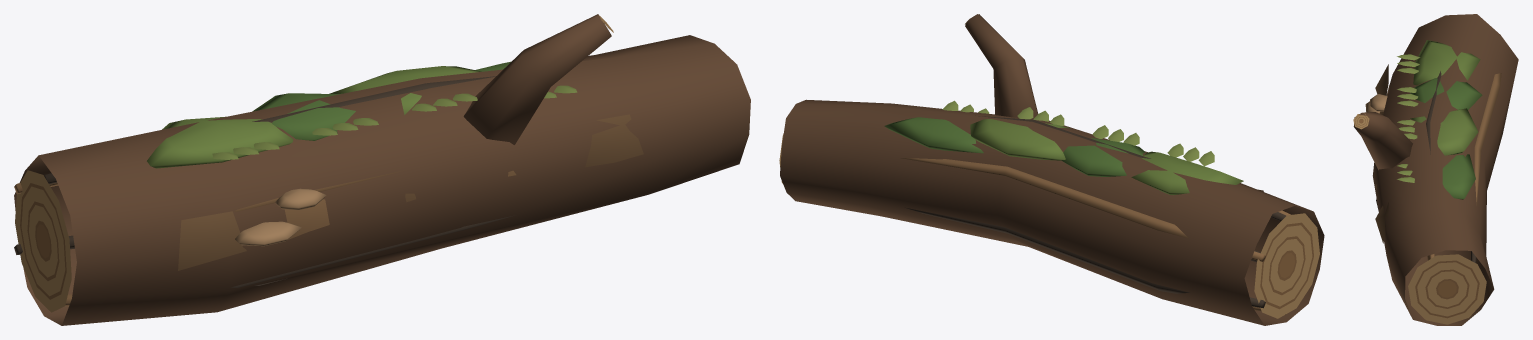
File: woodland_fallen_log.glb
3 views of the same model, side by side, from view 1: azimuth 30°, elevation 25°; view 2: azimuth 150°, elevation 25°; view 3: azimuth 270°, elevation 25° (orthographic). The views are drawn at different scales.
Visible parts, largest first — view 1: body; view 2: body; view 3: body.
Part boxes in pixels (bbox=[...]): body: bbox=[14, 14, 750, 325]; body: bbox=[779, 14, 1324, 325]; body: bbox=[1353, 14, 1518, 325].
Bounding box in the file's own units: 1.97 × 0.7025 × 0.6191.
